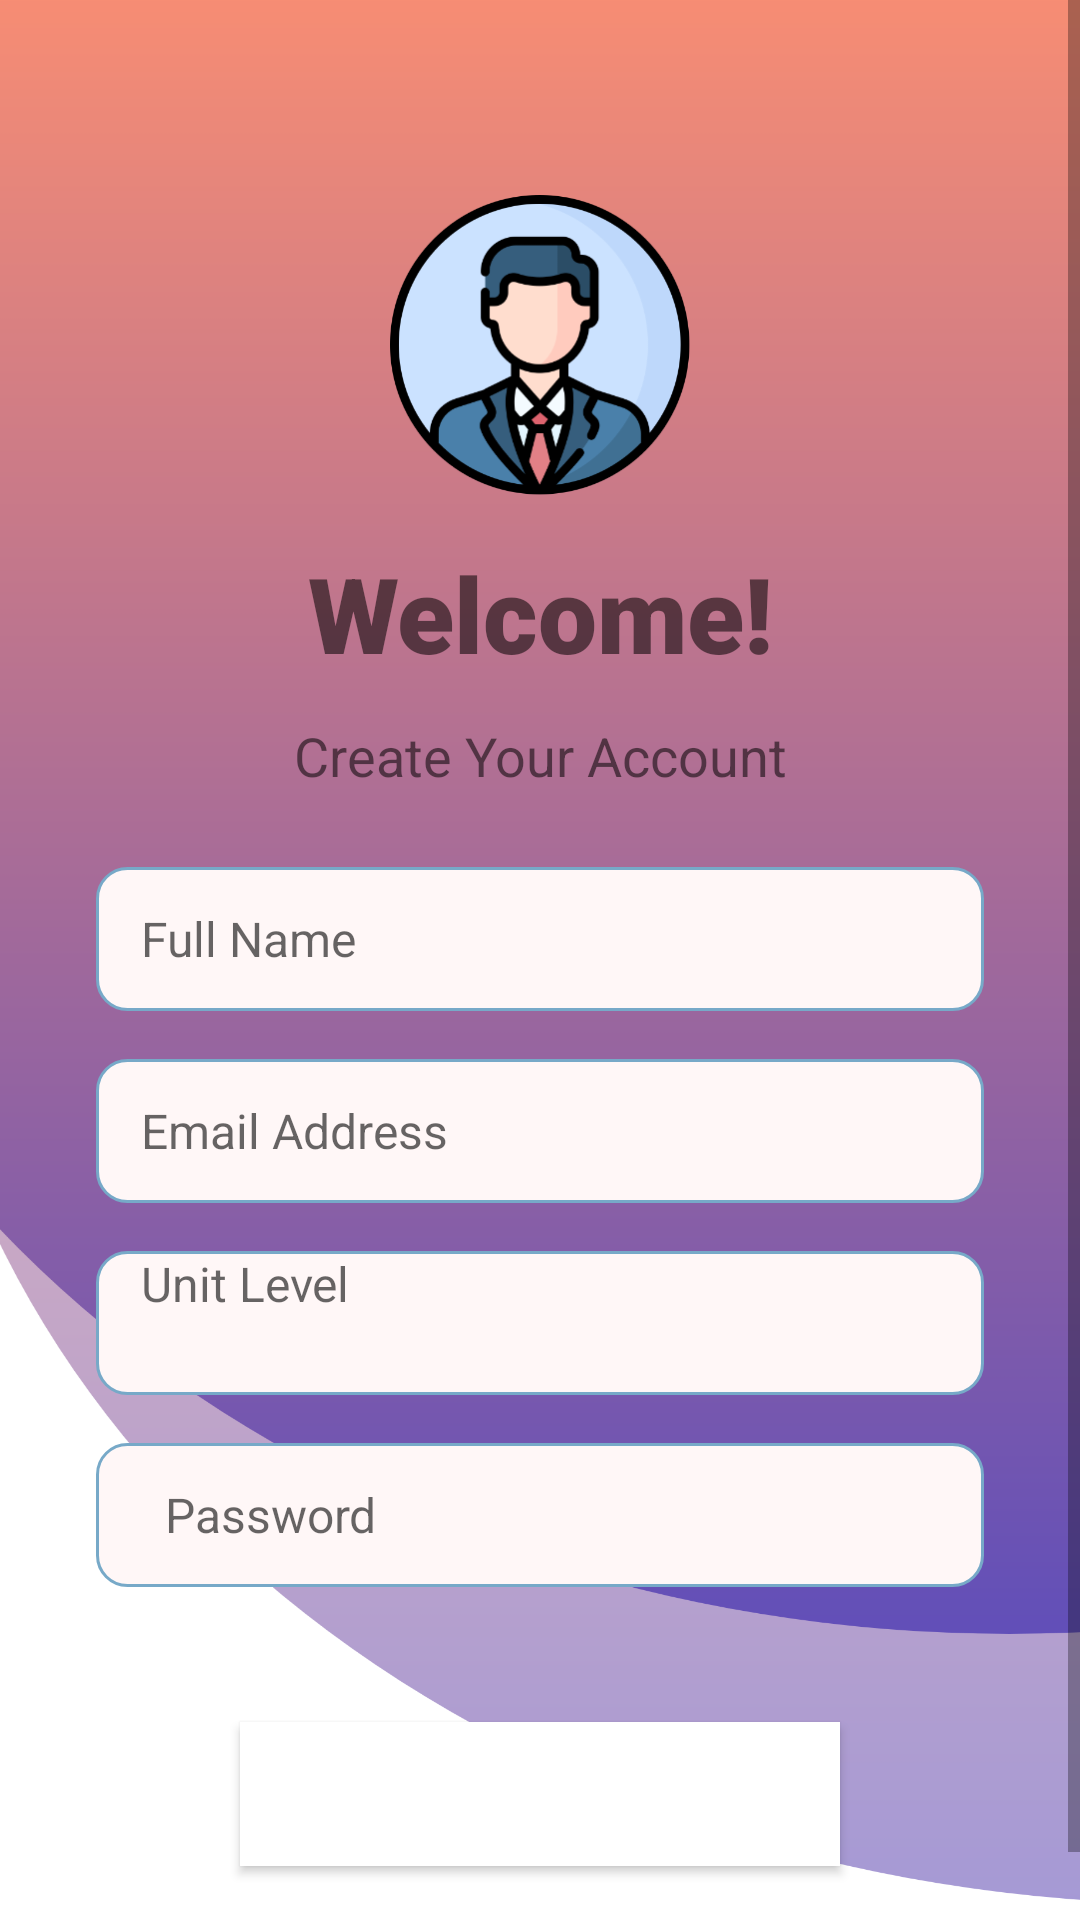

Icon click points for this 1080x1920 phone screenshot, format point (x, y):
profile: point (540, 345)
